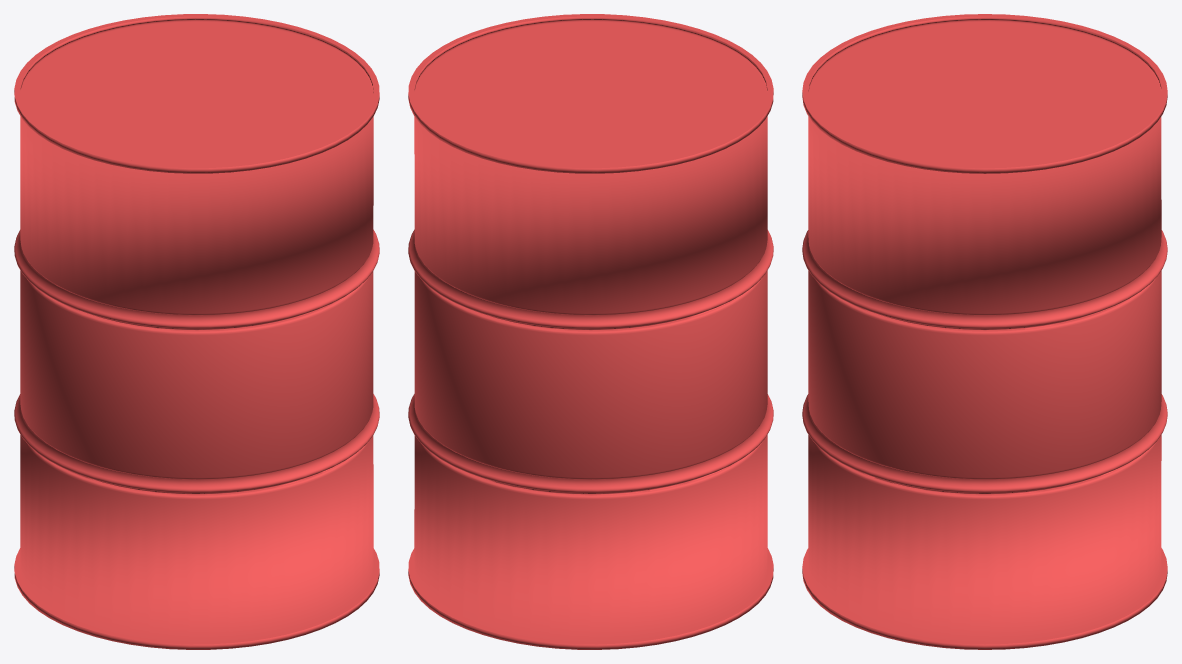
The picture shows the model from 3 angles, left to right: view 1: azimuth 30°, elevation 25°; view 2: azimuth 150°, elevation 25°; view 3: azimuth 270°, elevation 25°; orthographic projection.
Parts seen in each view (by area): view 1: drum1; view 2: drum1; view 3: drum1.
Part boxes in pixels (<box>): drum1: <box>14,14,379,649</box>; drum1: <box>408,14,773,649</box>; drum1: <box>802,14,1167,649</box>.
Bounding box in the file's own units: 0.6056 × 0.6056 × 0.88.
